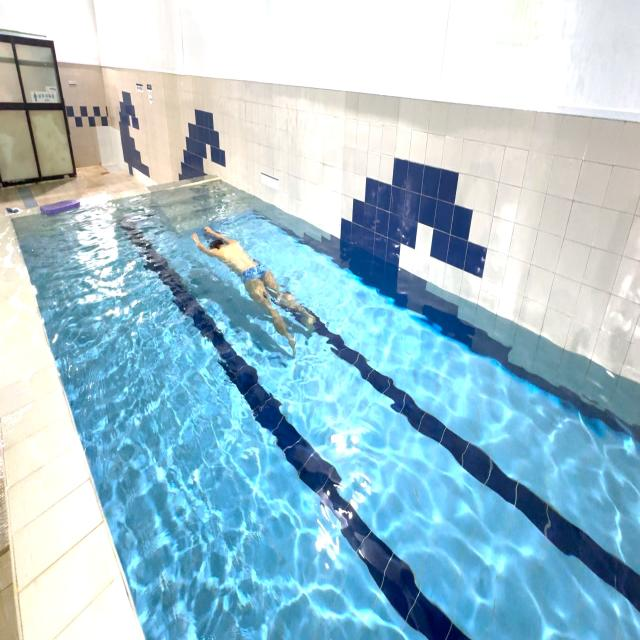Drowning: (184, 213, 324, 364)
